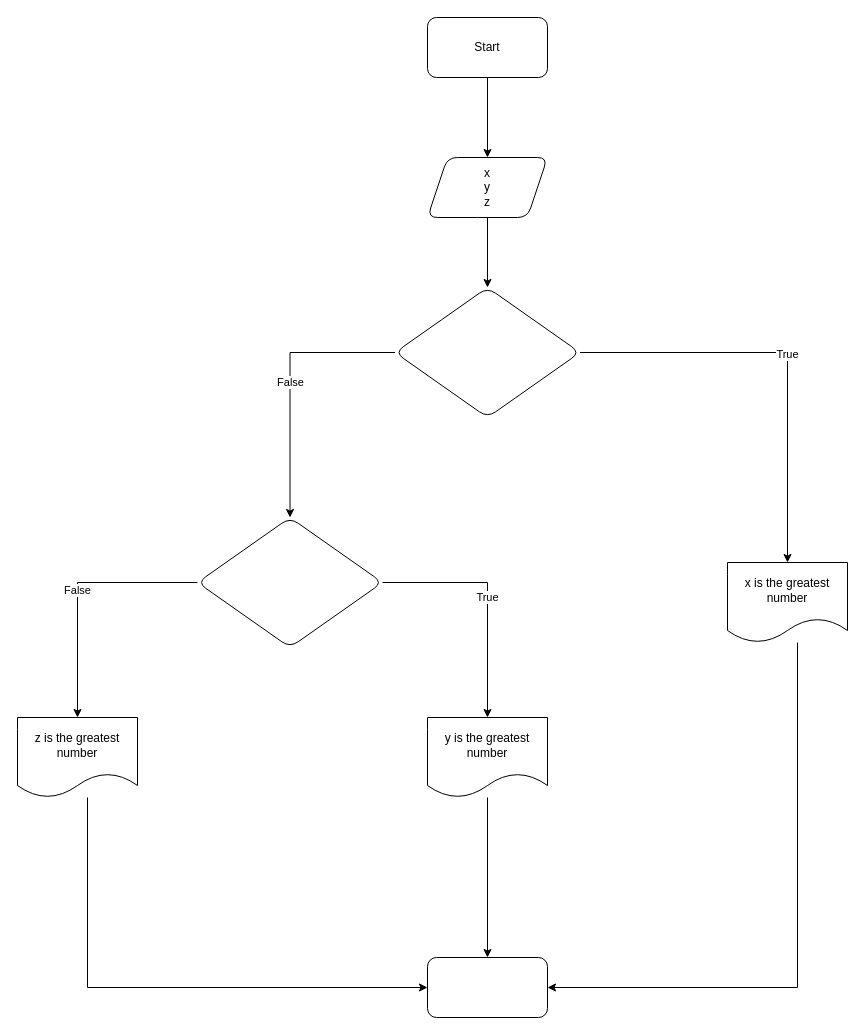
Image size: 865x1035. Some labels were removed from this diagram. Here are the shapes that lost their labels. From the top down, the centre of each, then its label:
At point 487,352: "x>y && x >z".
At point 289,582: "y>x && x >z".
At point 487,987: "End".
